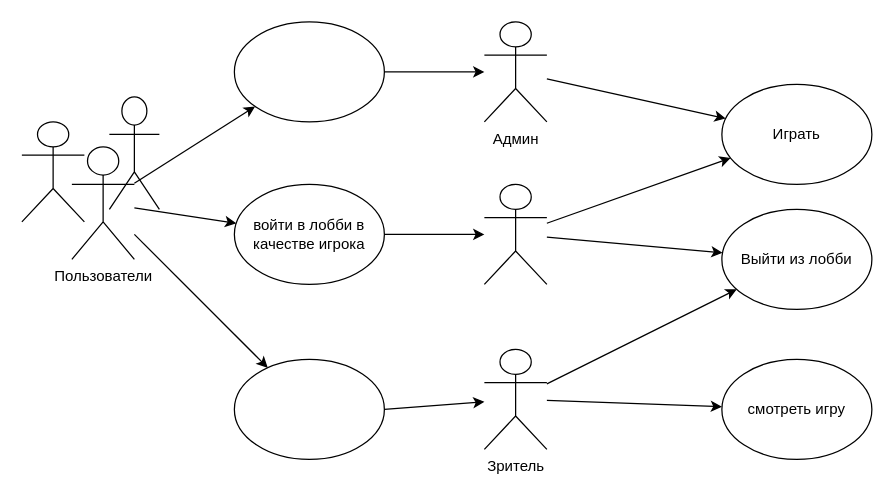
Some shapes in this 894 by 498 pixel diagram are drawn without their labels. The centre of each missing label's shape, as x and y in pixels:
"Активный игрок" belongs at pixel 515 233.
"войти в лобби в качестве зрителя" belongs at pixel 308 408.
"создать лобби" belongs at pixel 308 71.
